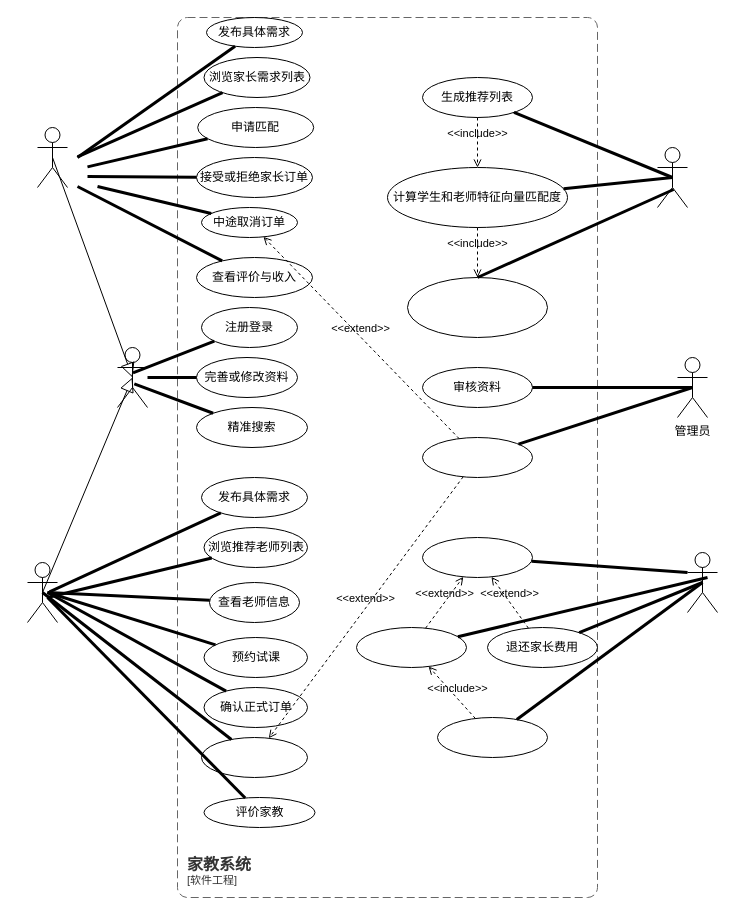
This 756x915 diagram has some shape labels left out. Here are the shapes that lost their labels. From the top down, the box of each, then its label:
(36, 126, 68, 188): 家教
(656, 146, 688, 208): AI匹配引擎
(406, 276, 548, 338): 生成学生和老师特征向量
(116, 346, 148, 408): 用户
(422, 436, 532, 478): 处理投诉和争议
(422, 536, 532, 578): 预收取上课费用
(26, 562, 58, 622): 家长/学生
(686, 552, 718, 612): 财务管理人员
(356, 626, 466, 668): 结算家教费用
(200, 736, 308, 778): 中途退课
(436, 716, 548, 758): 收取平台服务费
